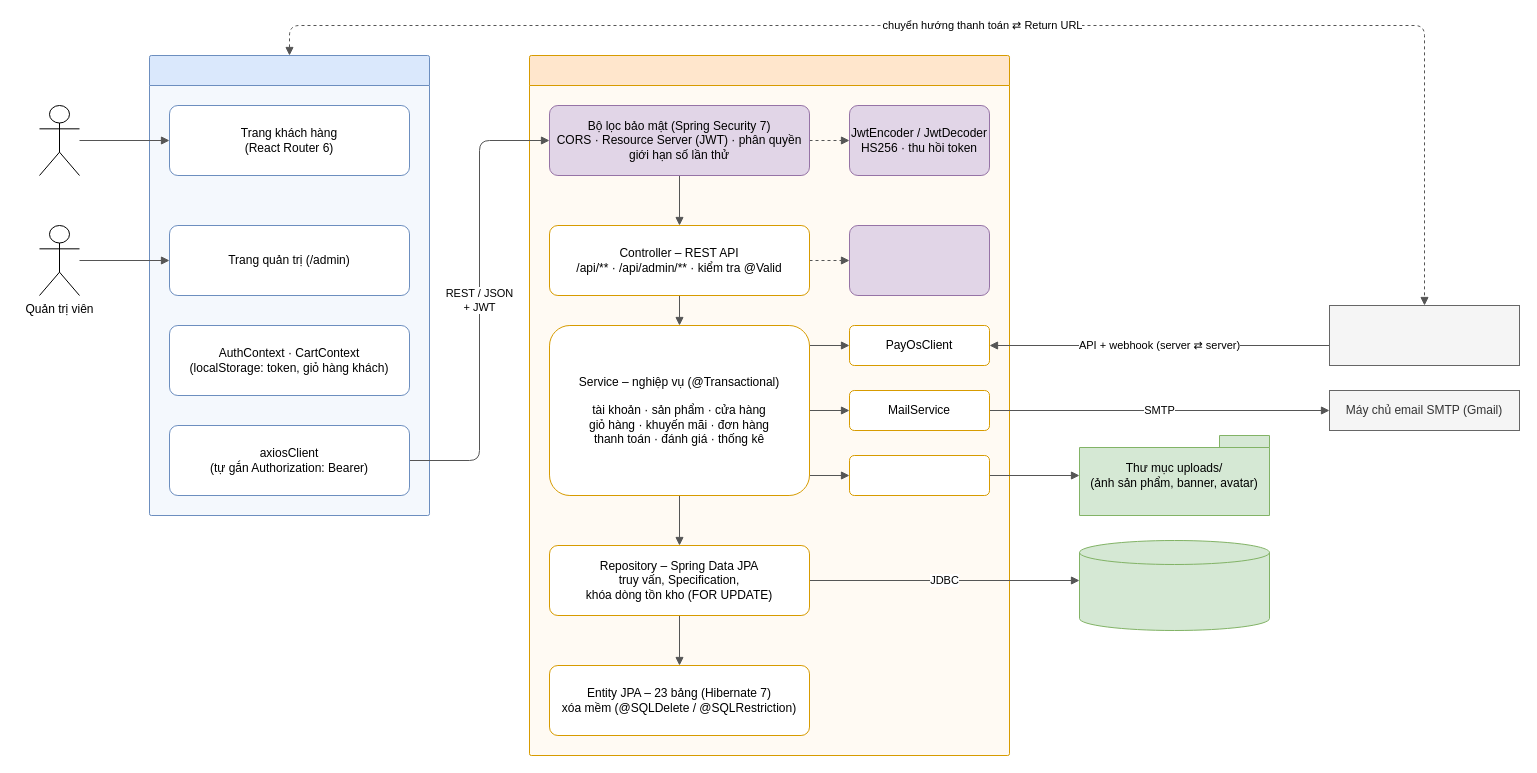
Image size: 1537x773. Some labels were removed from this diagram. The box of each missing label's shape, as (x1, y1, x2, y2) in pixels:
Backend – Spring Boot 4.1 / Java 21 (cổng 8080): (528, 54, 1010, 756)
Cổng thanh toán PayOS: (1328, 304, 1520, 366)
FileStorageService: (848, 454, 990, 496)
Frontend – React 18 + Vite (cổng 5173): (148, 54, 430, 516)
Khách vãng lai / Khách hàng: (38, 104, 80, 176)
MySQL 8.4 (Docker) CSDL techgear – 23 bảng lược đồ do Flyway quản lý: (1078, 540, 1270, 630)
Xử lý lỗi thống nhất JSON tiếng Việt: (848, 224, 990, 296)
